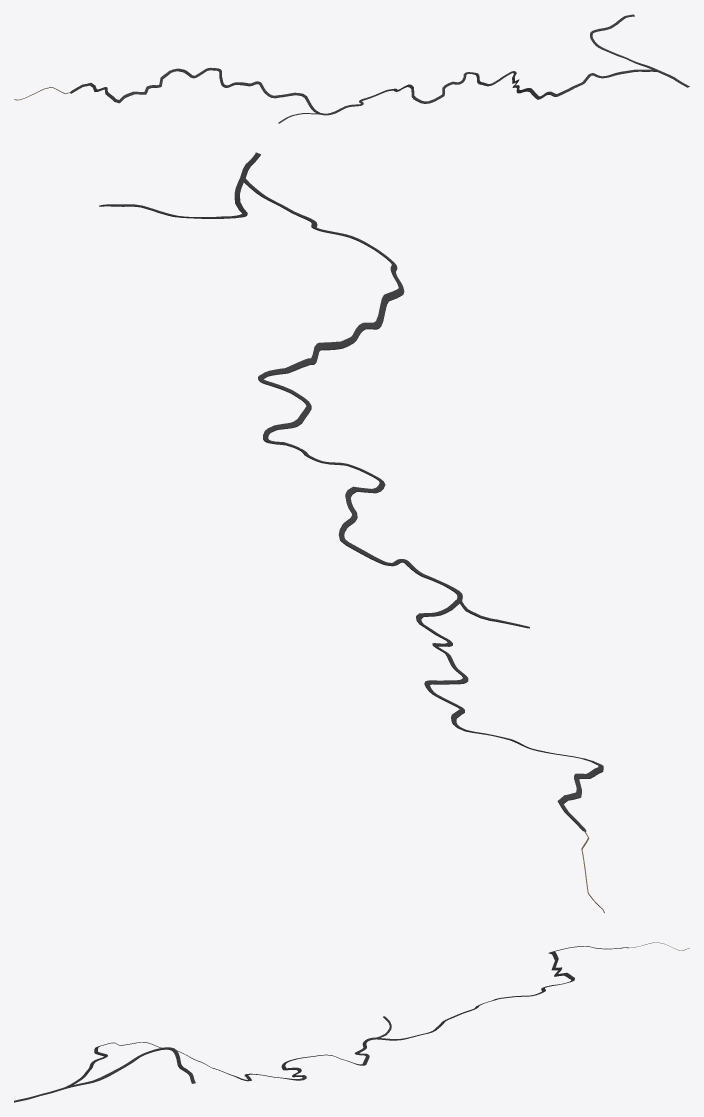
3 renders of one model, top to bottom at view 1: azimuth 30°, elevation 25°; view 2: azimuth 150°, elevation 25°; view 3: azimuth 270°, elevation 25°, orthographic. The views are drawn at different scales.
Bounding box in the file's own units: 1173 × 295 × 1167.
